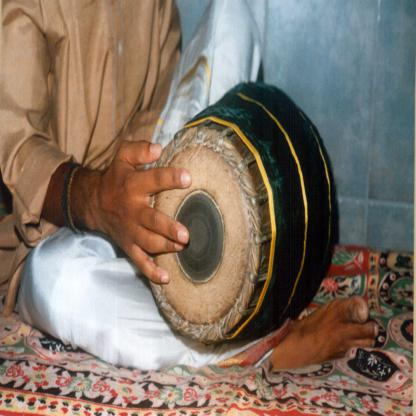Mridangam: (141, 79, 357, 352)
